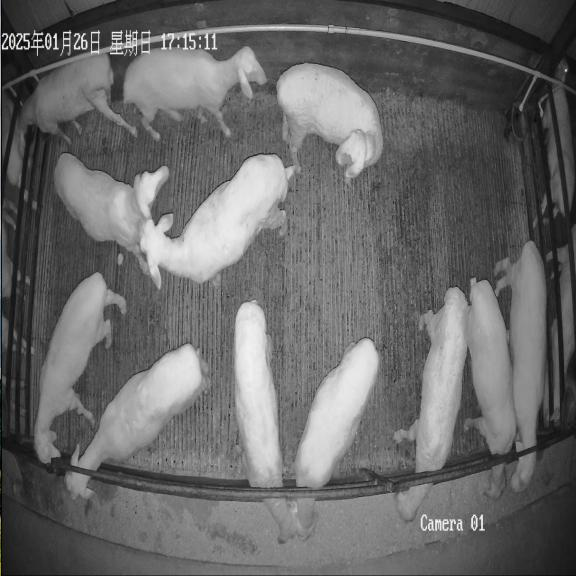drinking: (19, 54, 136, 143)
eating: (64, 344, 210, 499), (388, 287, 468, 521), (292, 338, 379, 539), (234, 300, 297, 543), (495, 241, 547, 492), (464, 278, 516, 499)
stand: (139, 154, 294, 288), (34, 273, 125, 463), (54, 153, 169, 274), (123, 47, 267, 140), (276, 63, 383, 183)
